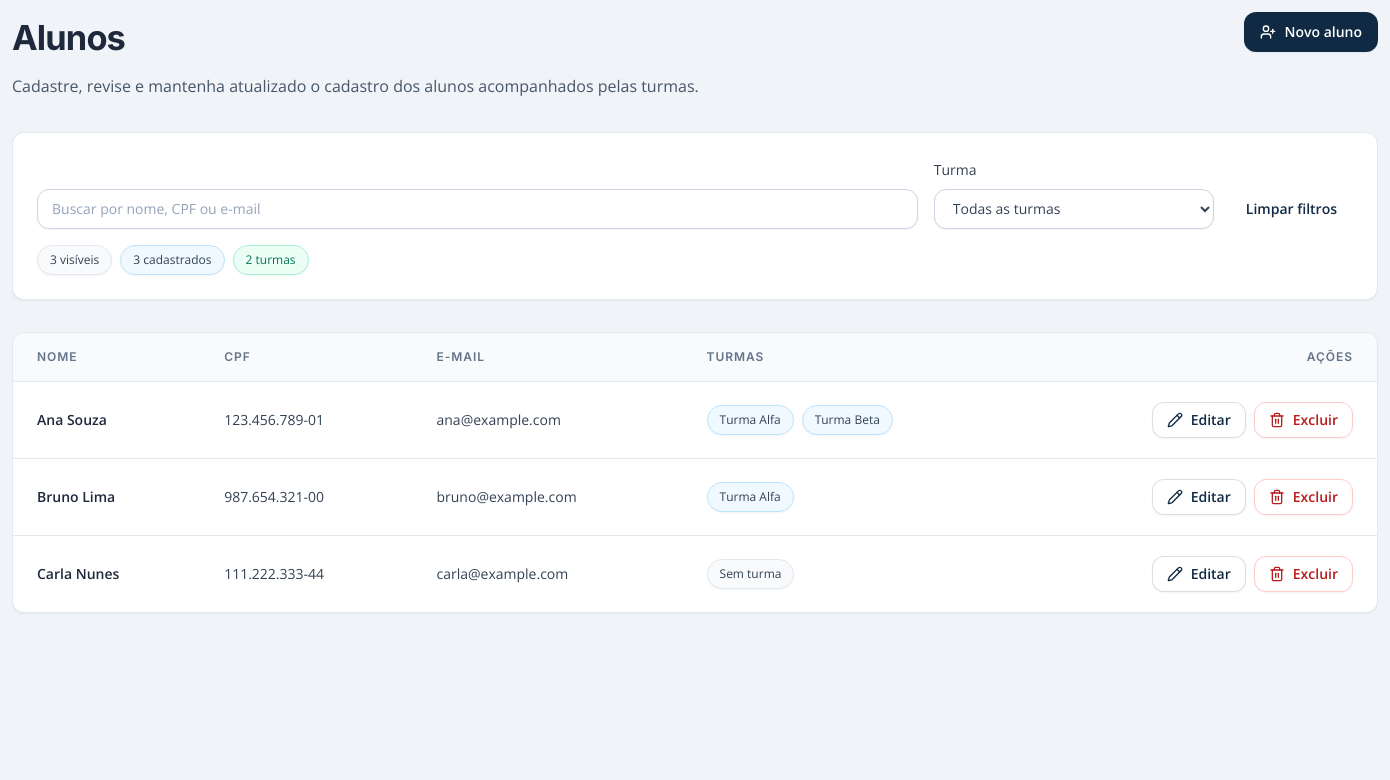
Test: StudentsPage › filters students by class and shows unassigned students
The width and height of the screenshot is (1390, 780).
expect the link "Ana Souza" is shown: met, box [37,410,107,429]
expect the link "Bruno Lima" is shown: met, box [37,487,115,506]
Select "Turma Beta" in the dropdown labelled "Turma" at x=1074, y=209, box [934,189,1214,229]
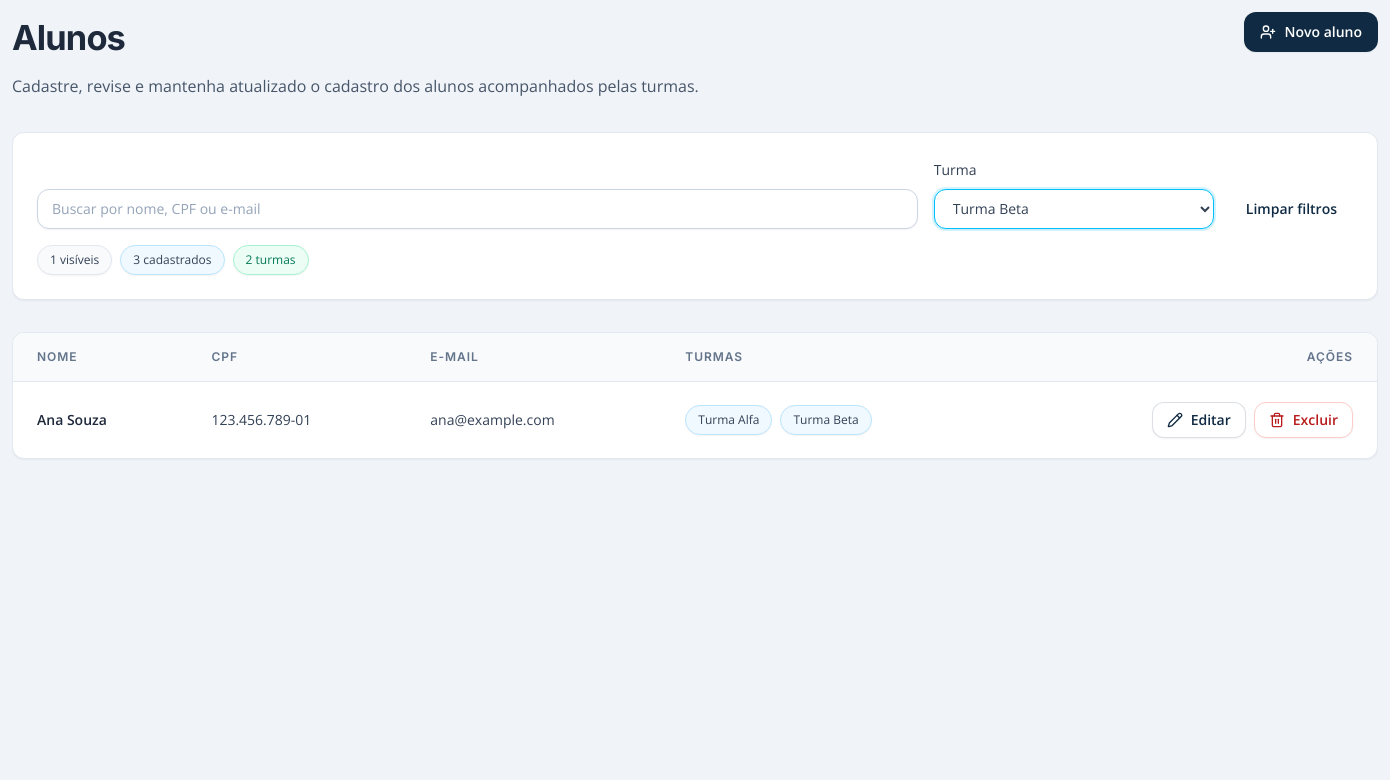
expect the link "Ana Souza" is shown: met, box [37,410,107,429]
expect the link "Bruno Lima" is gone: met
expect the link "Carla Nunes" is gone: met
Select "Sem turma" in the dropdown labelled "Turma" at x=1074, y=209, box [934,189,1214,229]
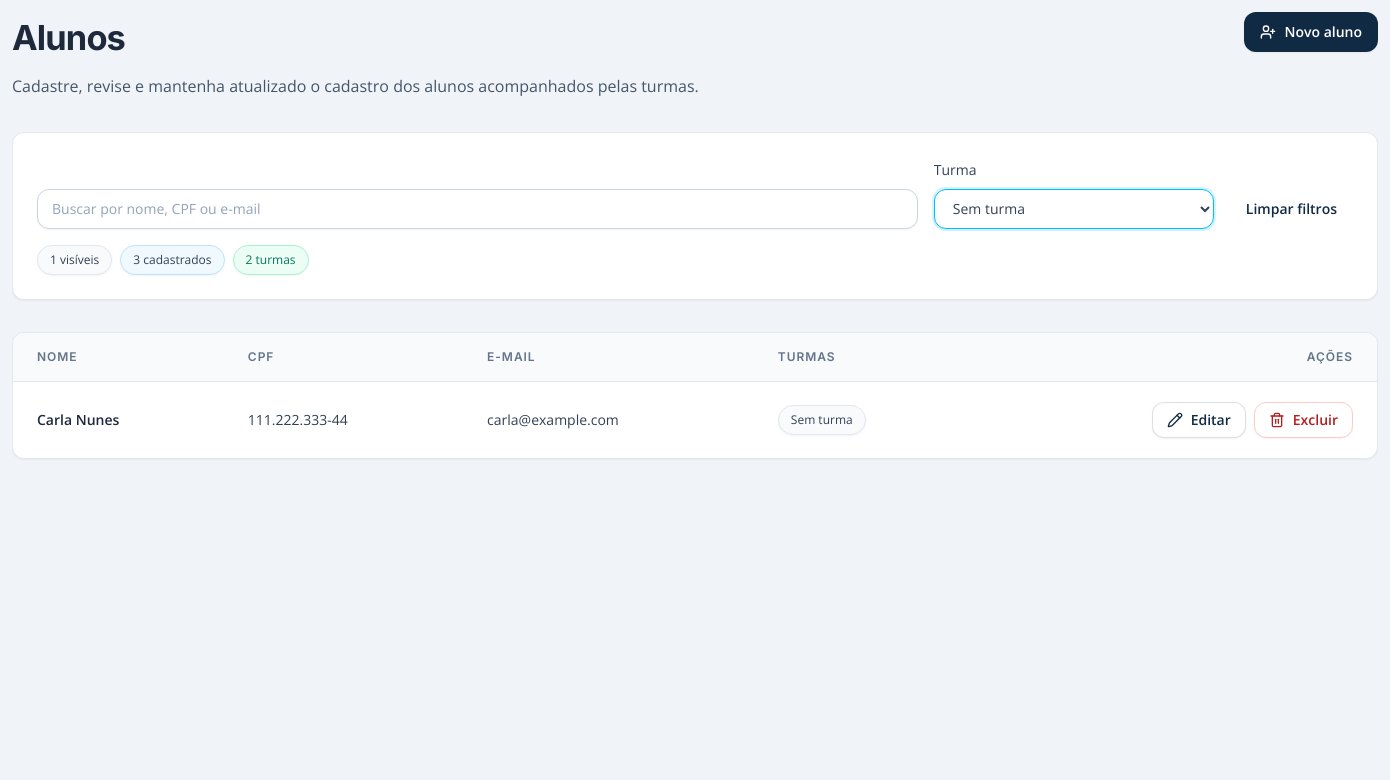
expect the link "Bruno Lima" is not shown: met
expect the link "Carla Nunes" is shown: met, box [37,410,119,429]
expect the link "Ana Souza" is gone: met
